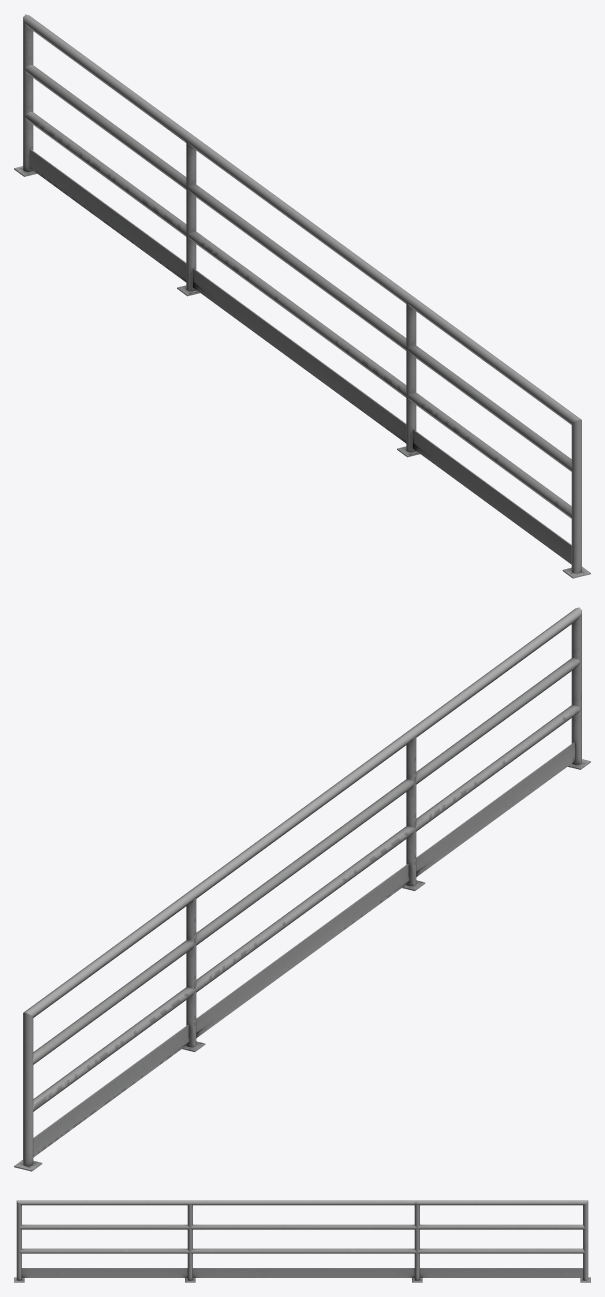
The picture shows the model from 3 angles, top to bottom: view 1: azimuth 30°, elevation 25°; view 2: azimuth 150°, elevation 25°; view 3: azimuth 270°, elevation 25°; orthographic projection. The views are drawn at different scales.
Parts seen in each view (by area): view 1: body0_model0_lod0_mesh0; view 2: body0_model0_lod0_mesh0; view 3: body0_model0_lod0_mesh0.
Part boxes in pixels (x1,y1,x2,y2): body0_model0_lod0_mesh0: (14, 14, 590, 578); body0_model0_lod0_mesh0: (14, 607, 590, 1171); body0_model0_lod0_mesh0: (14, 1200, 590, 1282).
Bounding box in the file's own units: 4.01 × 32.99 × 216.
1 material, 1 textured.
